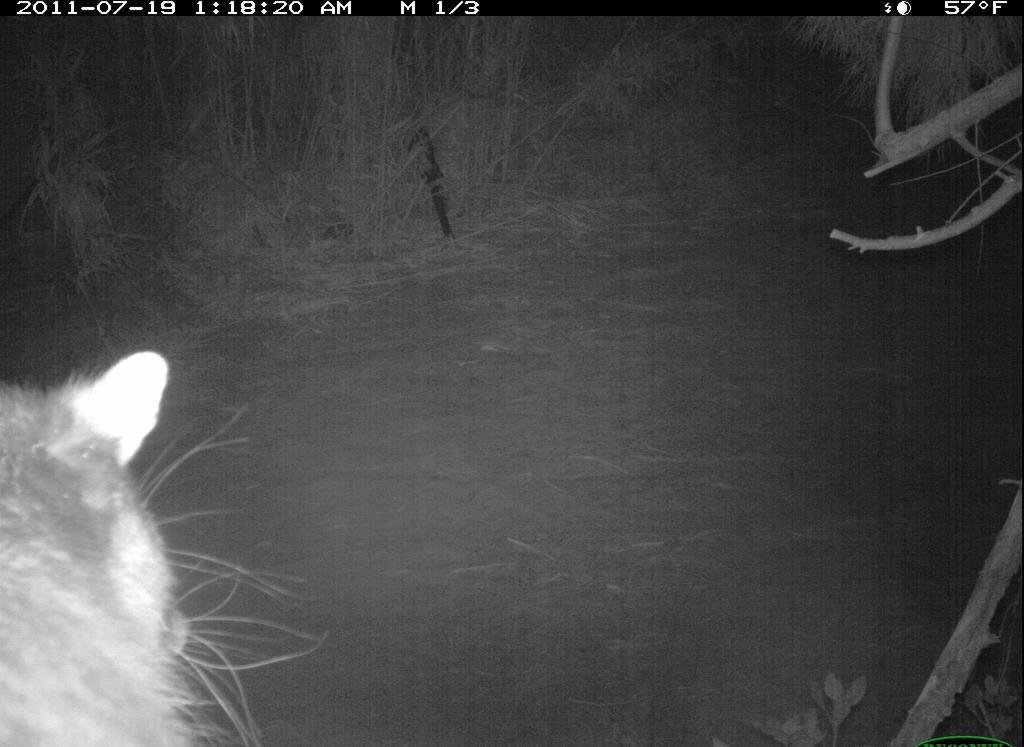raccoon: (1, 327, 322, 747)
